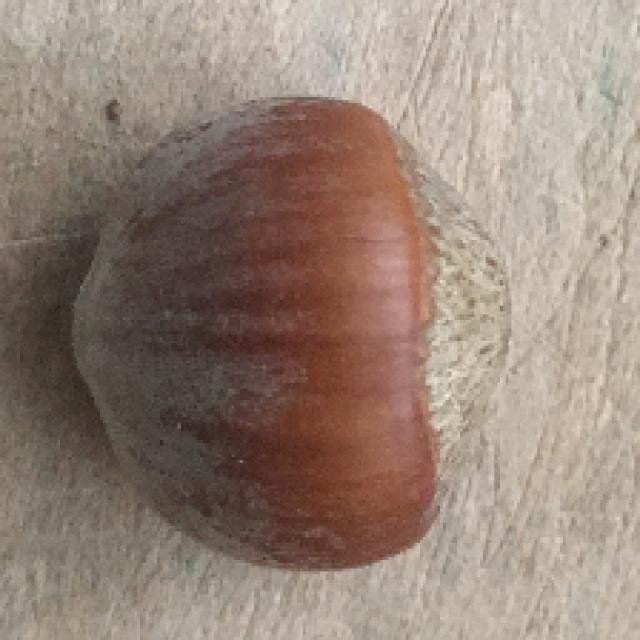qualityHazelnut: (60, 88, 512, 573)
